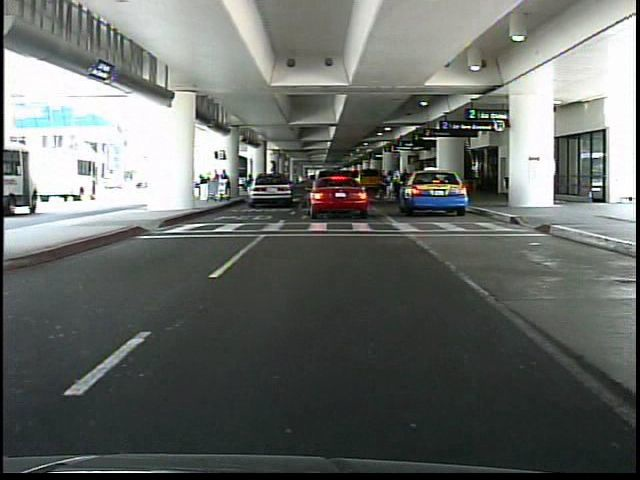person: (269, 165, 283, 204), (393, 167, 405, 201), (401, 166, 411, 203), (376, 173, 385, 201)
